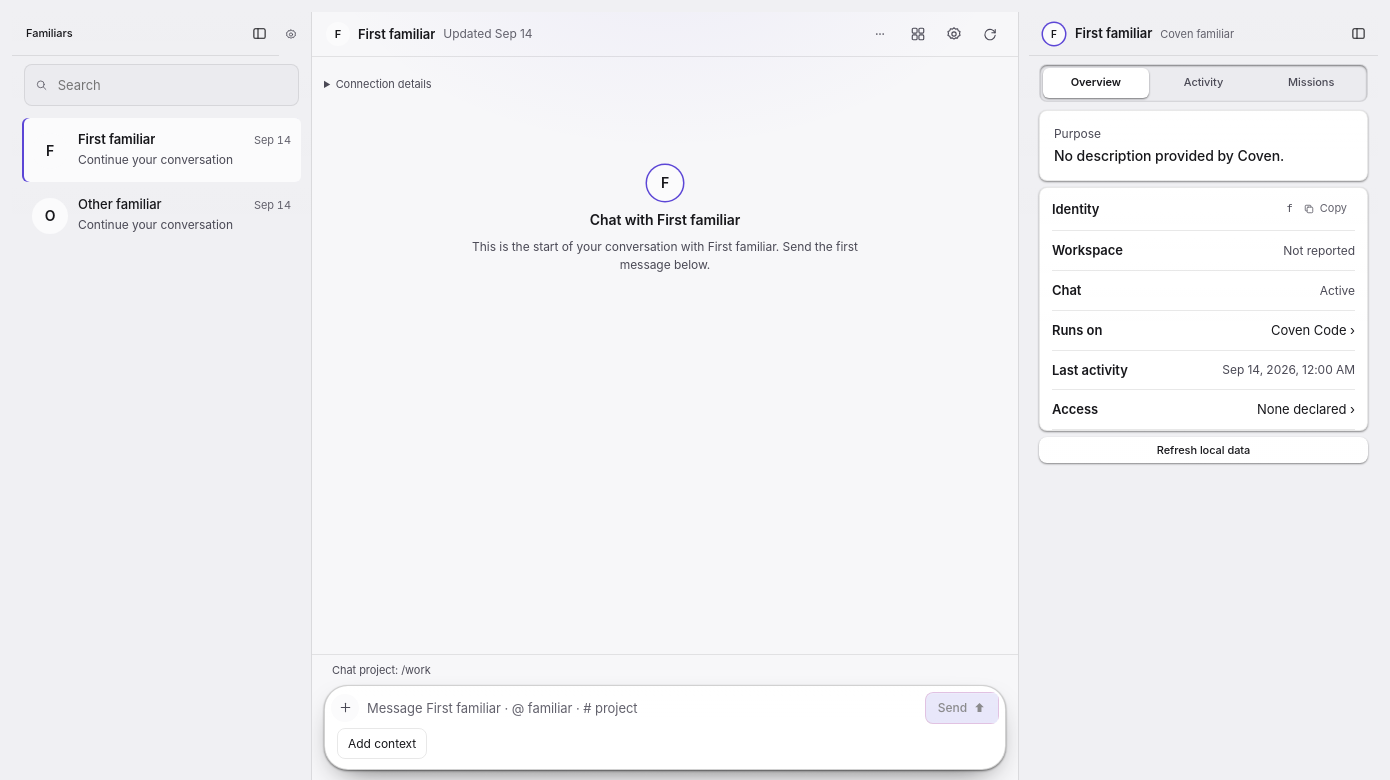
Scenario: canonical familiar controller › sends the restored draft again from the failed run's notice
Type "work" into the text box at [642, 708], box x1=363 y1=692 x2=921 y2=724
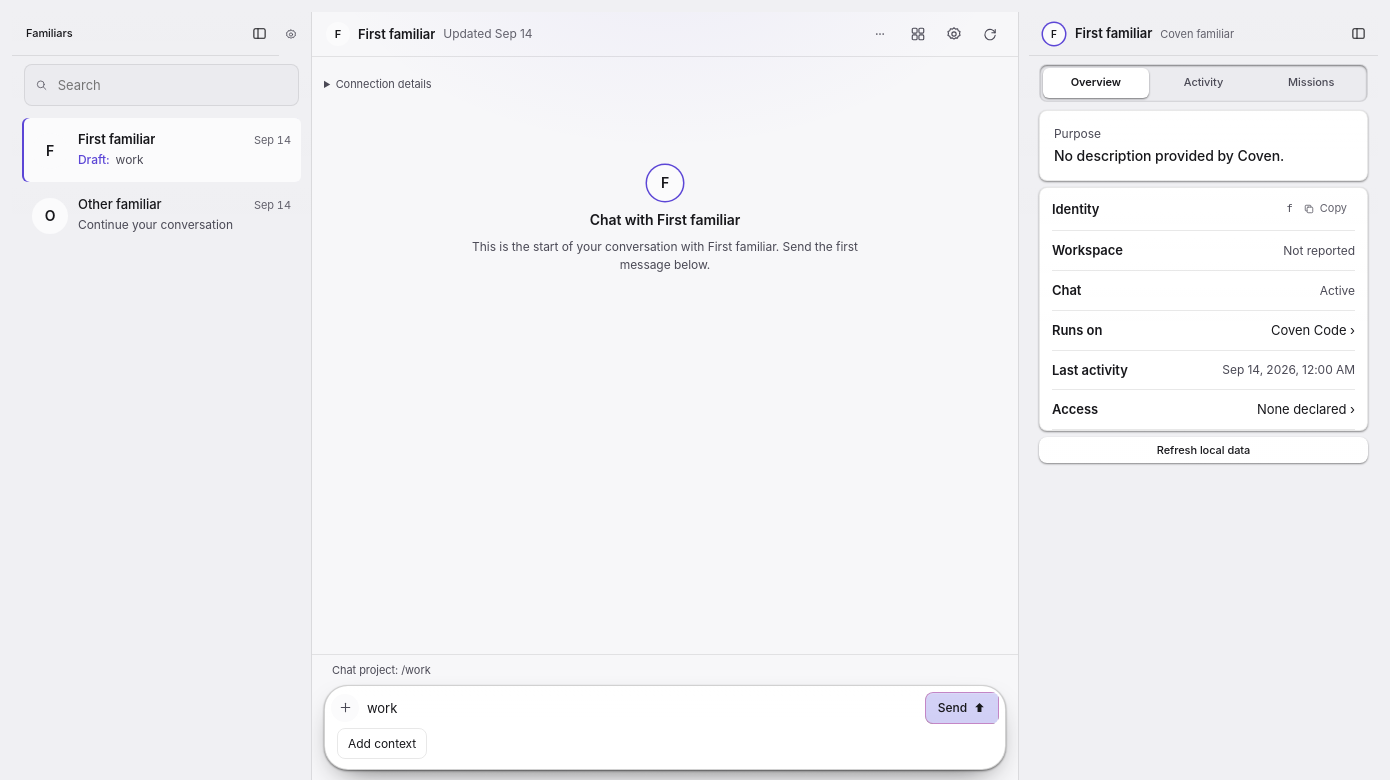
Click the button "Send" at [962, 708], box x1=925 y1=692 x2=999 y2=724
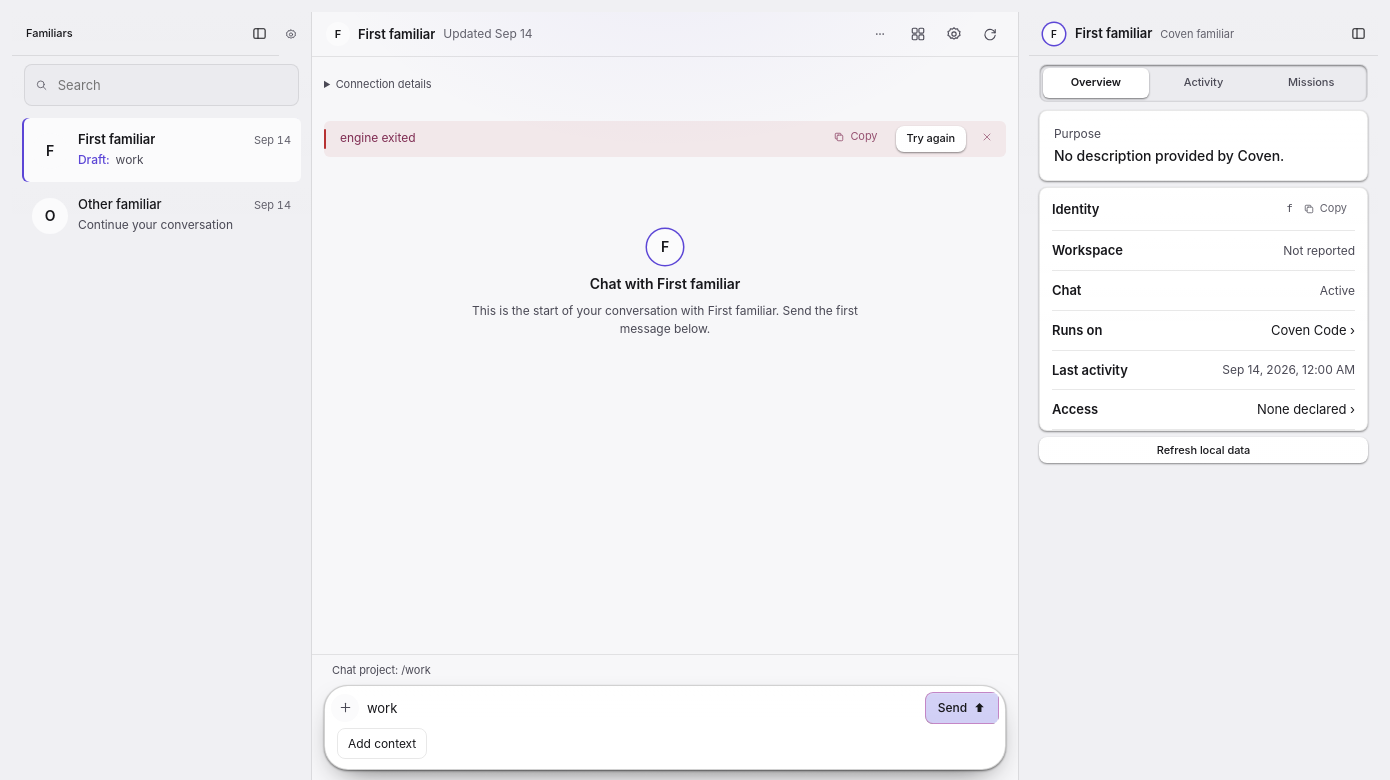
Result: the message "engine exited Copy Try again" is shown at x1=324 y1=121 x2=1006 y2=157
Result: the button "Try again" is shown
Click the button "Try again" at [931, 139], box x1=896 y1=126 x2=966 y2=152
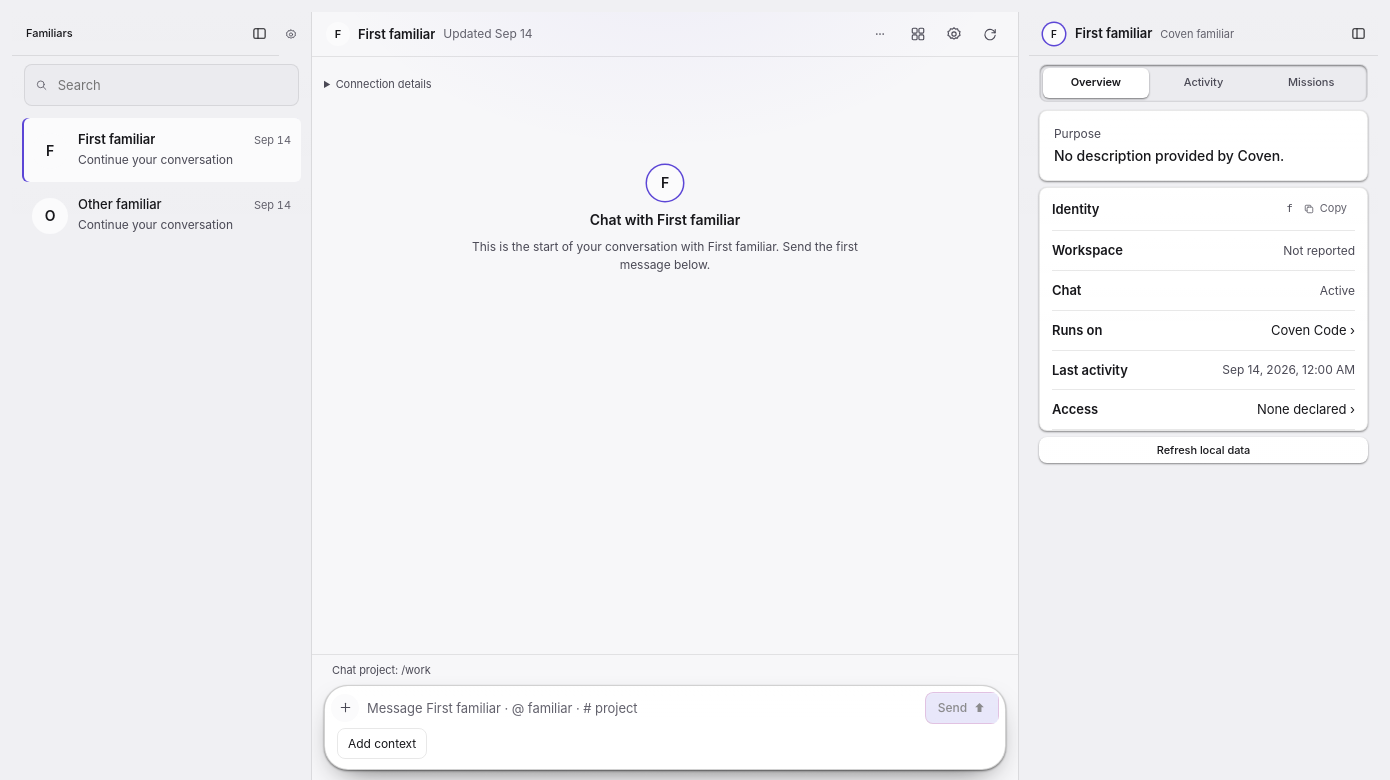
Result: the message "engine exited Copy Try again" is gone
Result: the button "Try again" is gone
